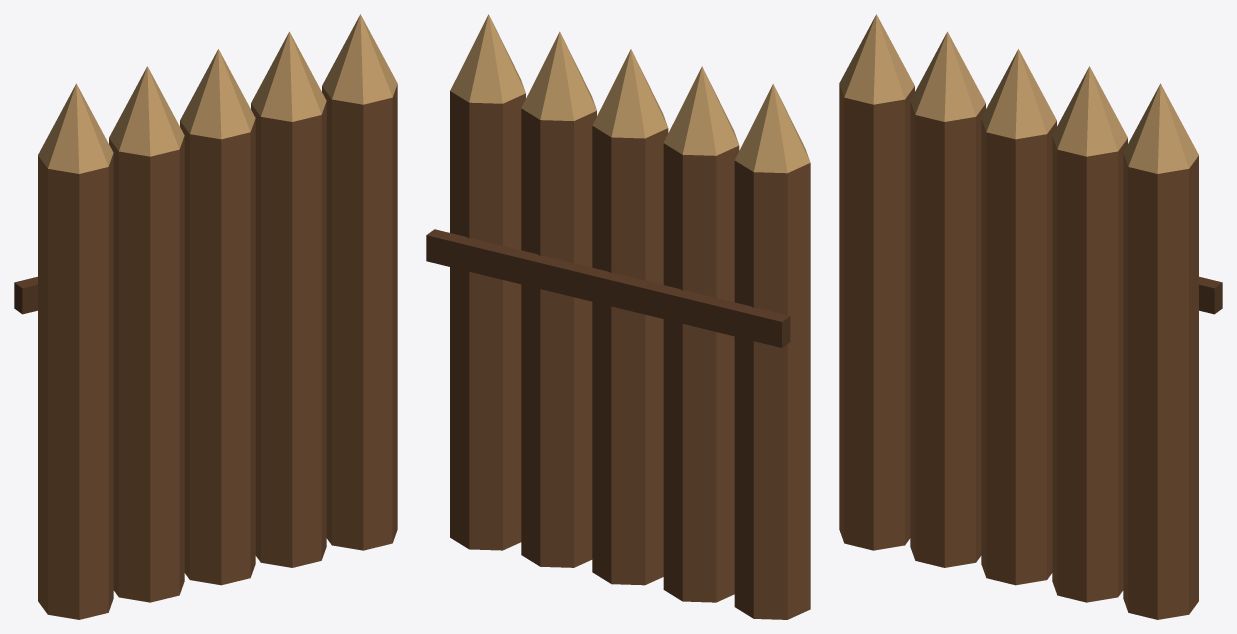
Rendered from palisade.glb.
3 renders of one model, left to right at view 1: azimuth 30°, elevation 25°; view 2: azimuth 150°, elevation 25°; view 3: azimuth 330°, elevation 25°, orthographic.
Parts seen in each view (by area): view 1: palisade; view 2: palisade; view 3: palisade.
Boxes of the visible parts, x1,y1,x2,y2 form: palisade: (14,14,397,619); palisade: (426,14,810,619); palisade: (839,14,1222,619).
Bounding box in the file's own units: 2 × 2.8 × 0.4312.
